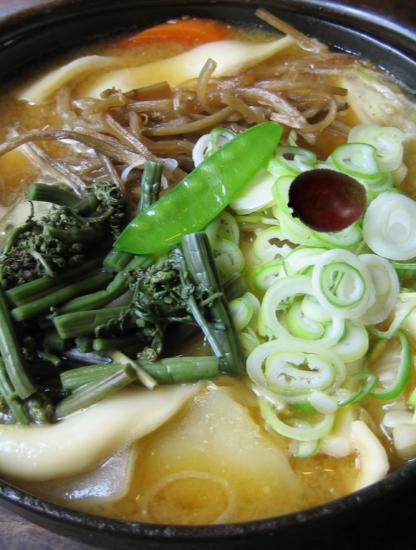Mango: (288, 160, 367, 239)
